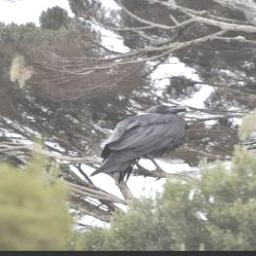Crow: (91, 103, 190, 187)
